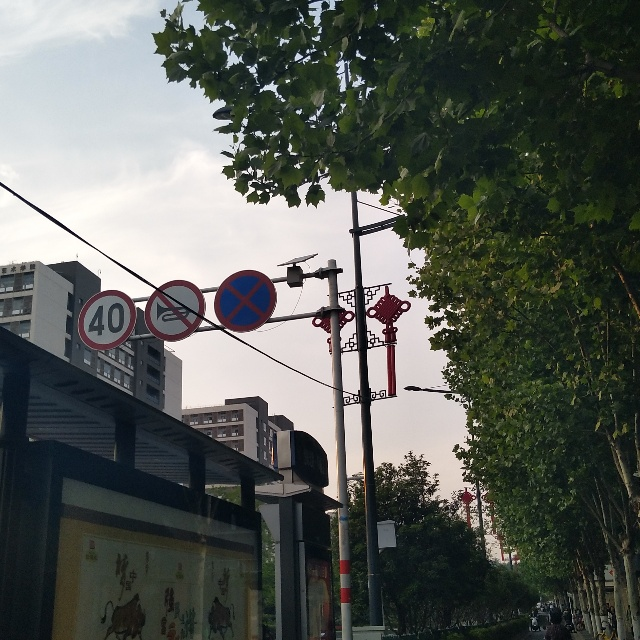nohonk: (148, 282, 193, 339)
stop: (219, 271, 273, 326)
